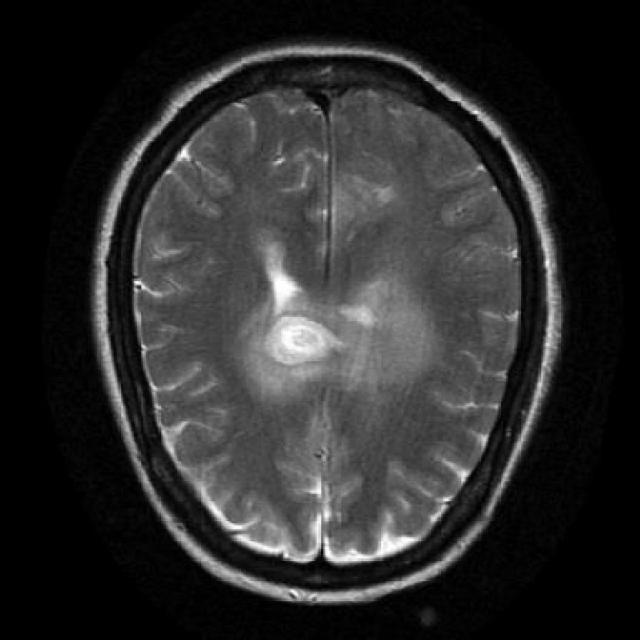Brain-Tumor: (255, 256, 352, 383)
